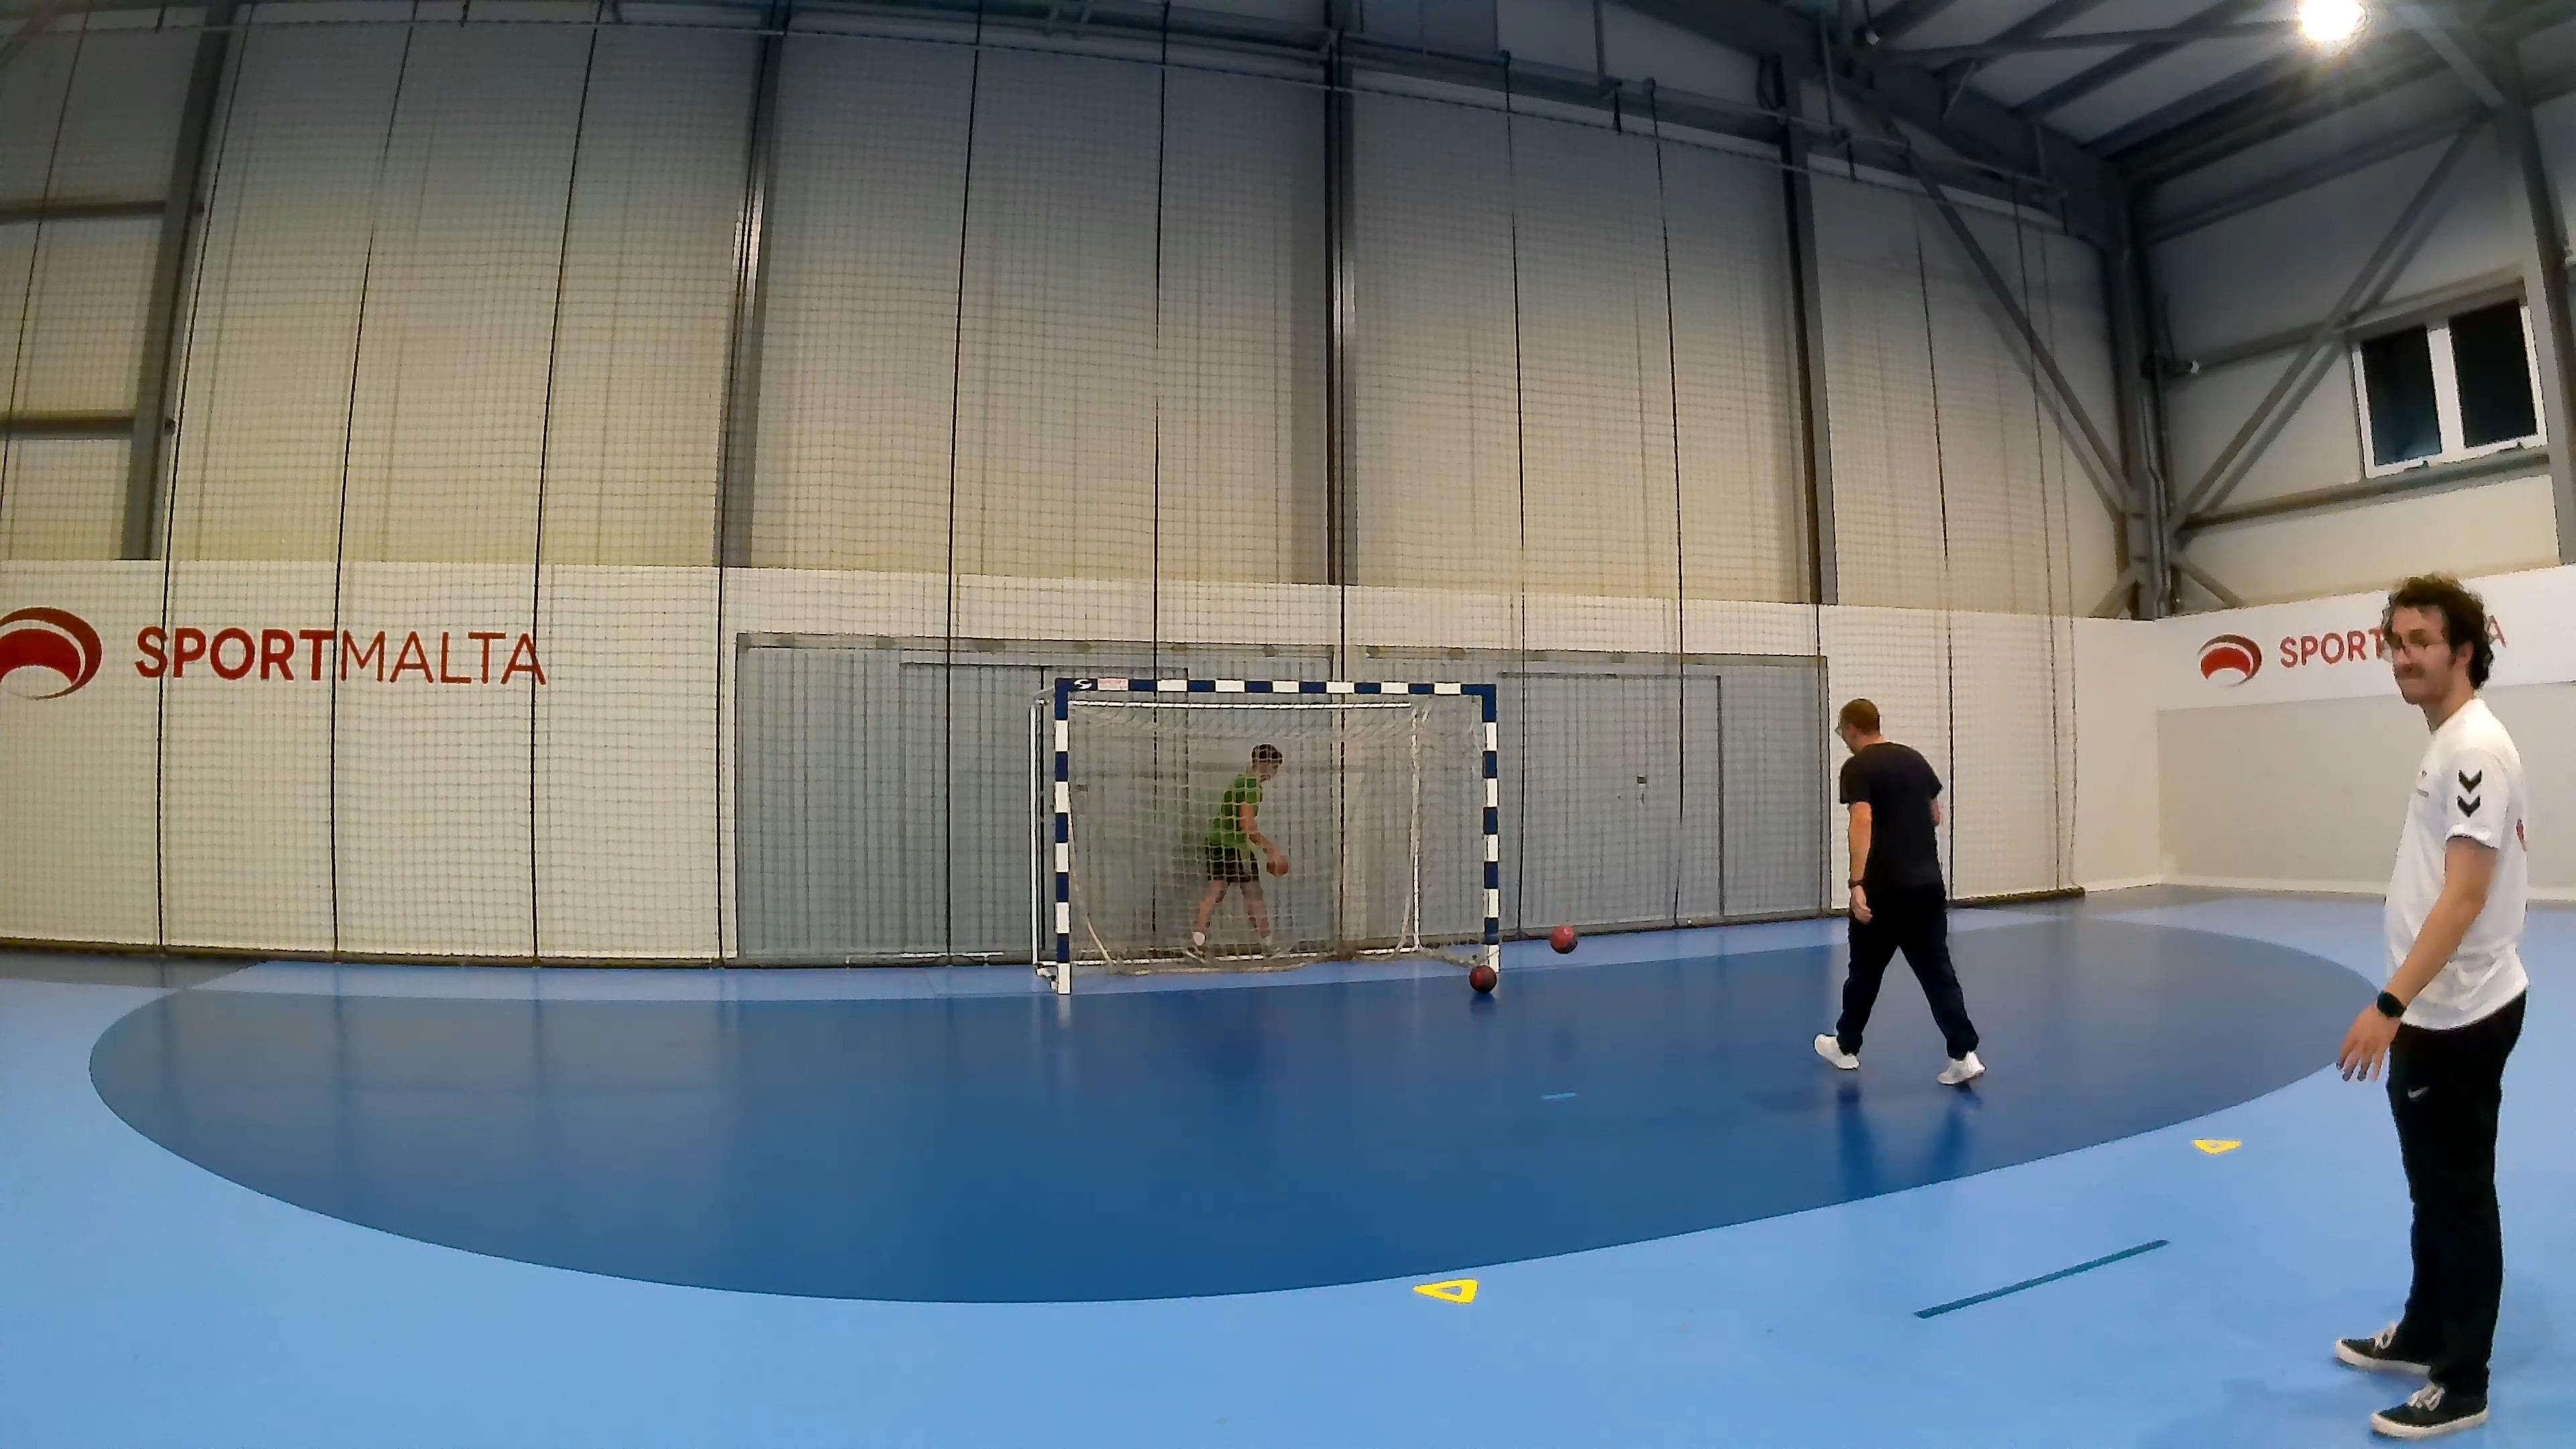handball: (1468, 962, 1497, 991), (1548, 924, 1576, 952)
